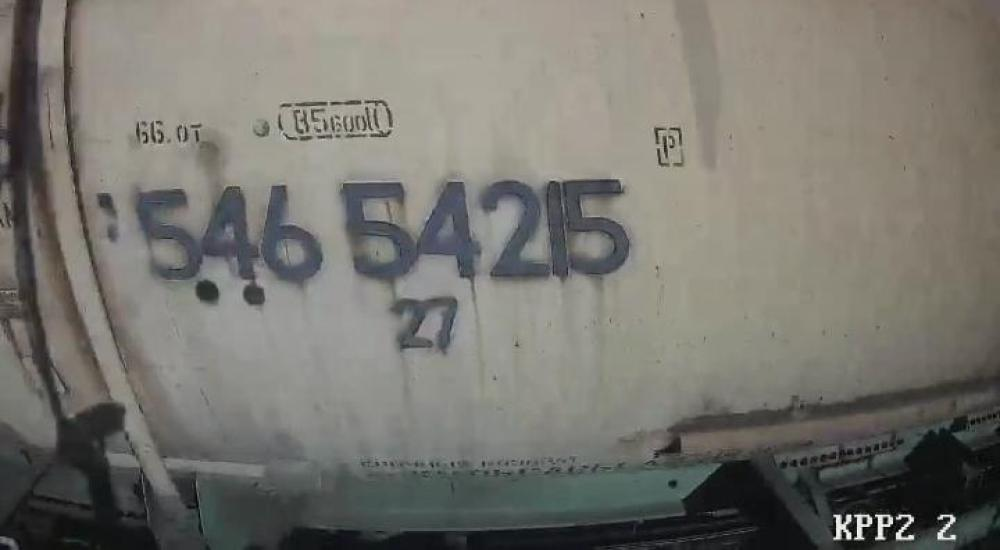Wagon-number: (128, 173, 637, 287)
